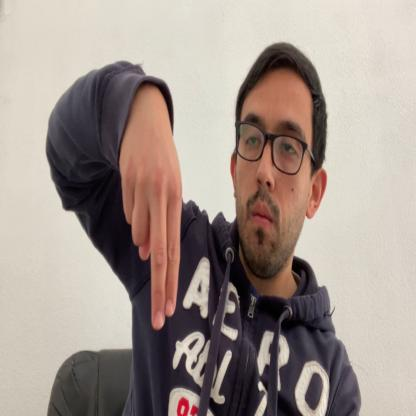N: (121, 104, 182, 329)
